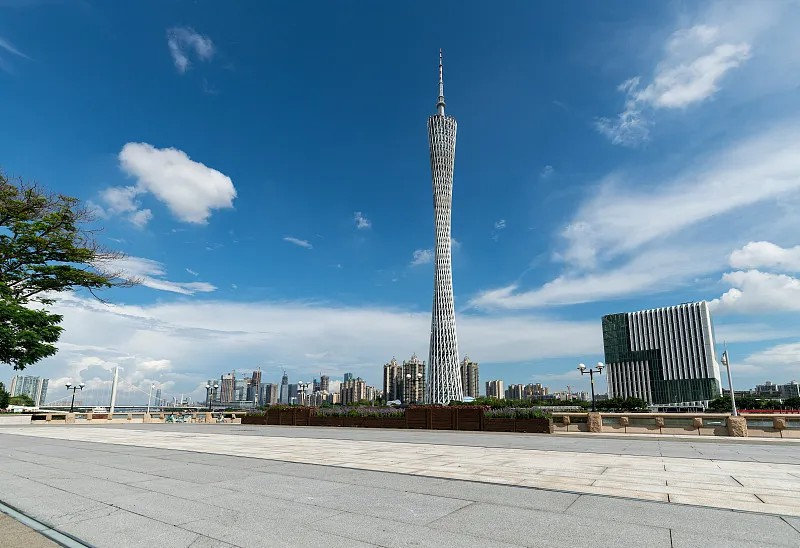Canton: (425, 48, 462, 404)
